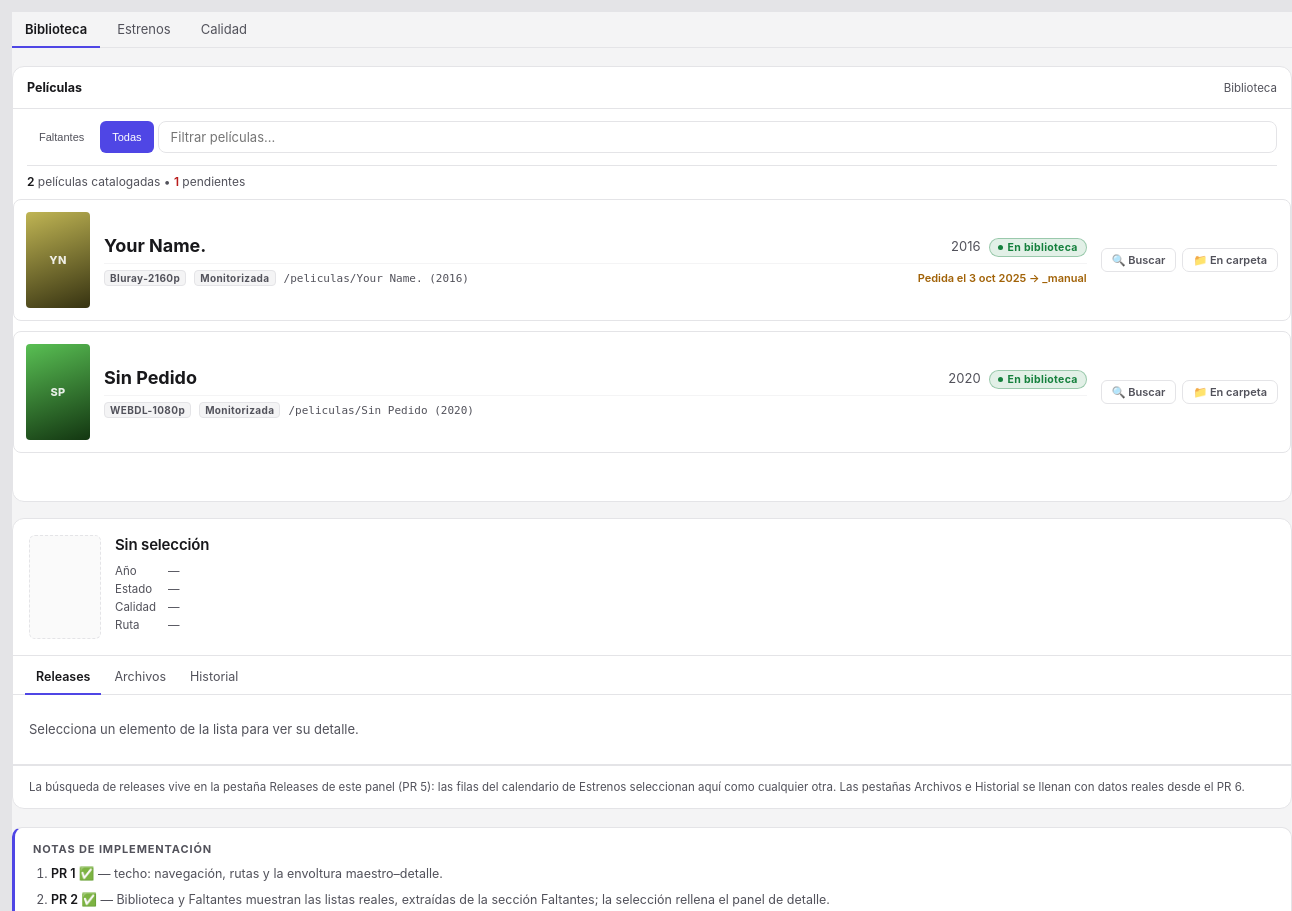
Scenario: sections · PR 6 — the detail tabs › Películas · Archivos surfaces what browse answers when the path is a file
Check: the text "Sin Pedido" is shown, box [104,367,197,388]
Click the element with class "sec-row" that starts with "Your Name." at (652, 260), box [13,199,1291,321]
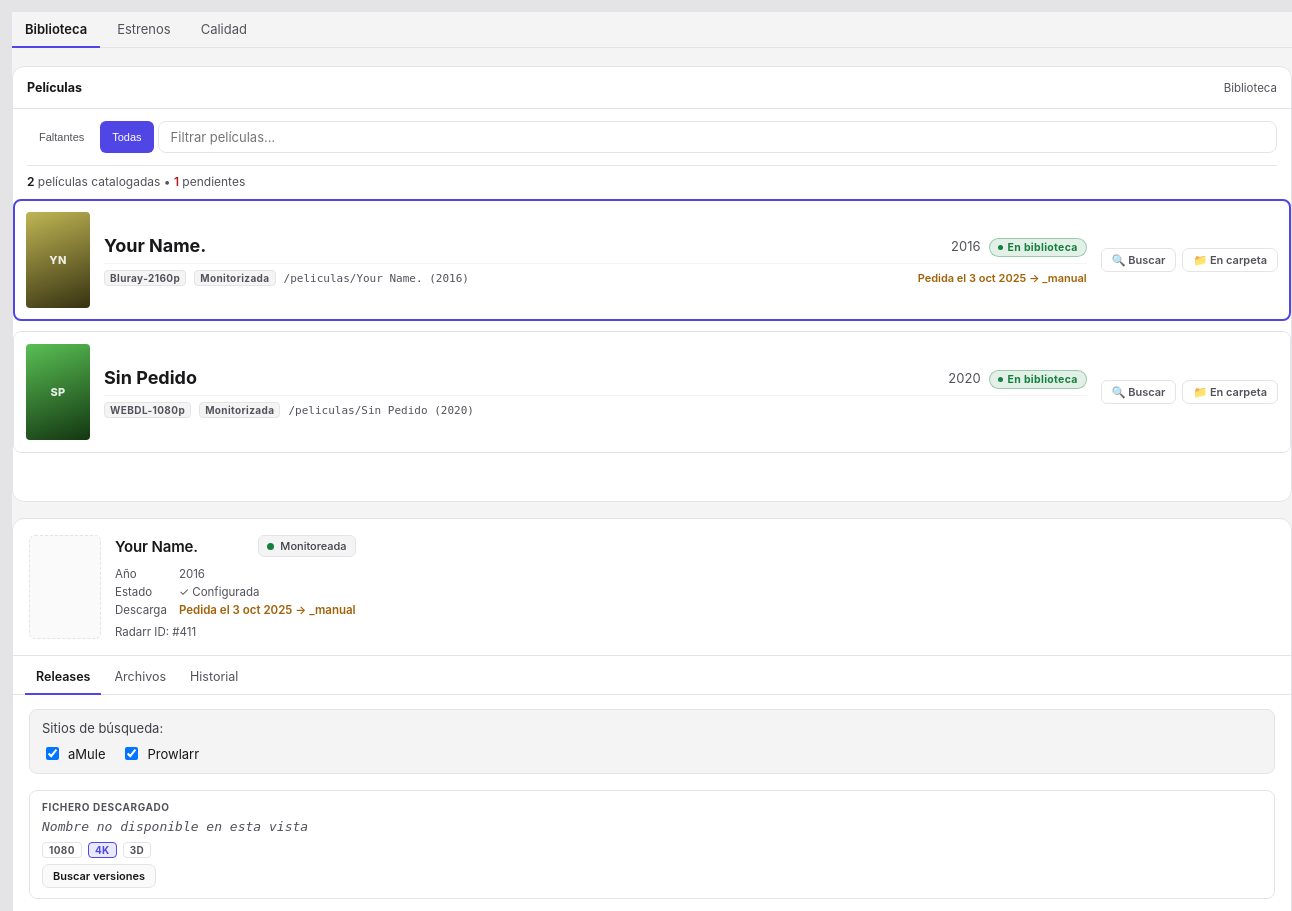
Click the button "Archivos" at (140, 678), box [104,660,177,695]
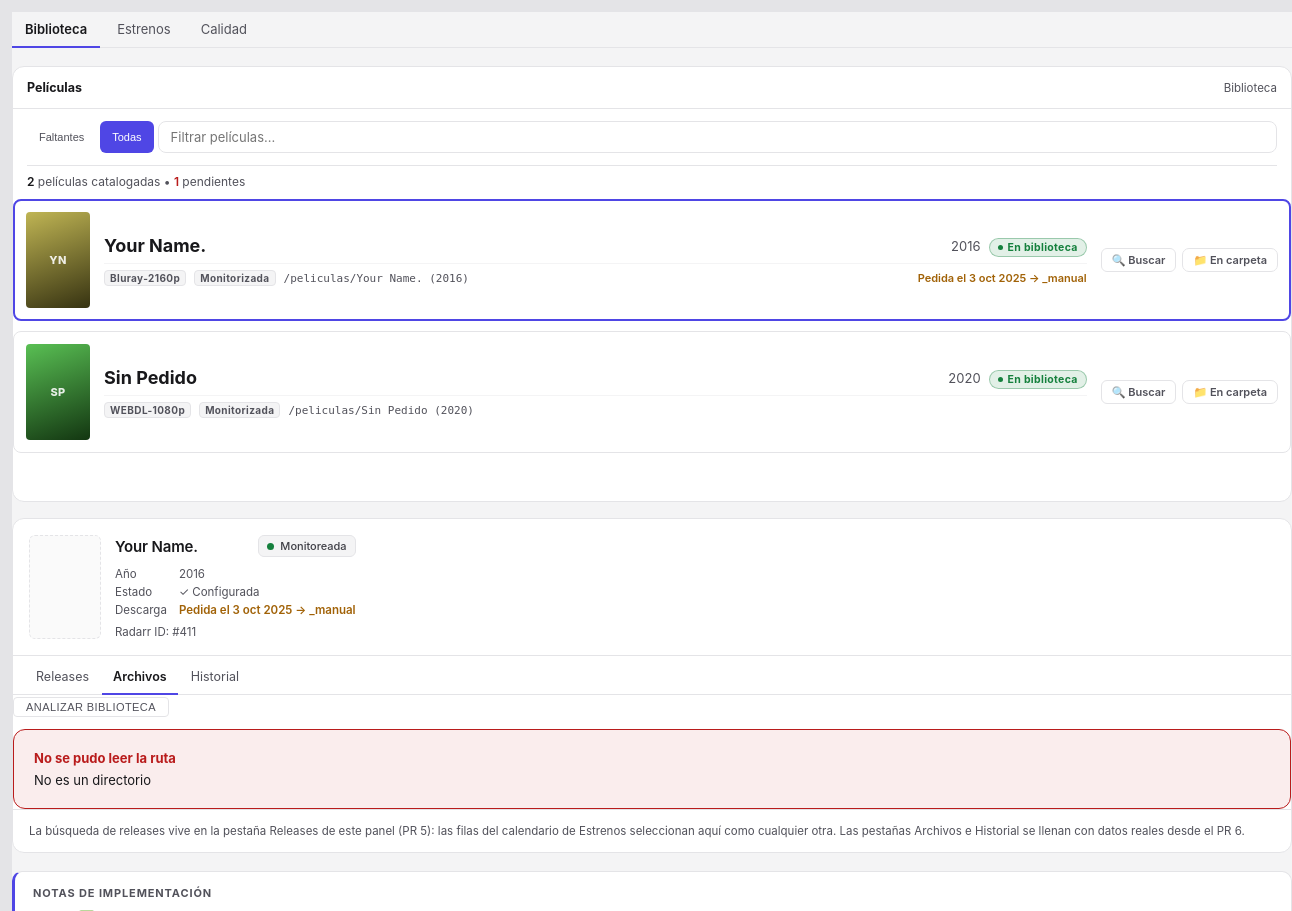
Check: the message shows "No es un directorio", box [34,772,151,788]
Check: the text "Nombre" is gone
